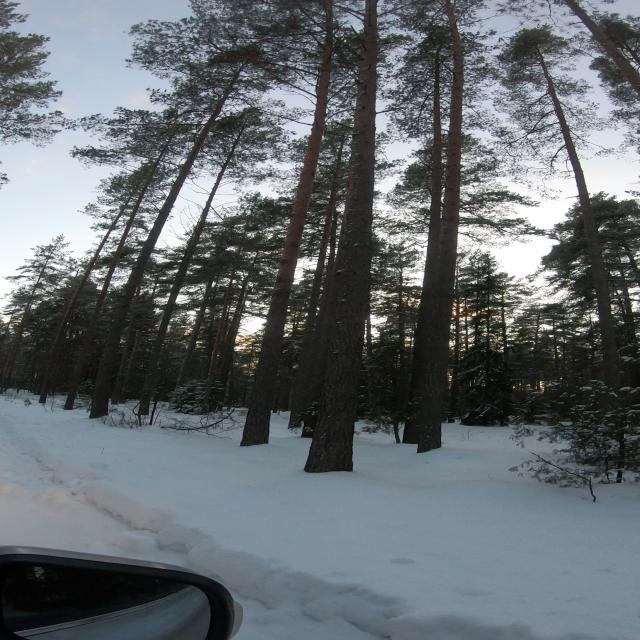trees: (90, 73, 239, 418), (241, 3, 333, 446), (304, 0, 379, 473), (140, 128, 244, 415), (538, 54, 619, 386), (410, 0, 464, 453)
